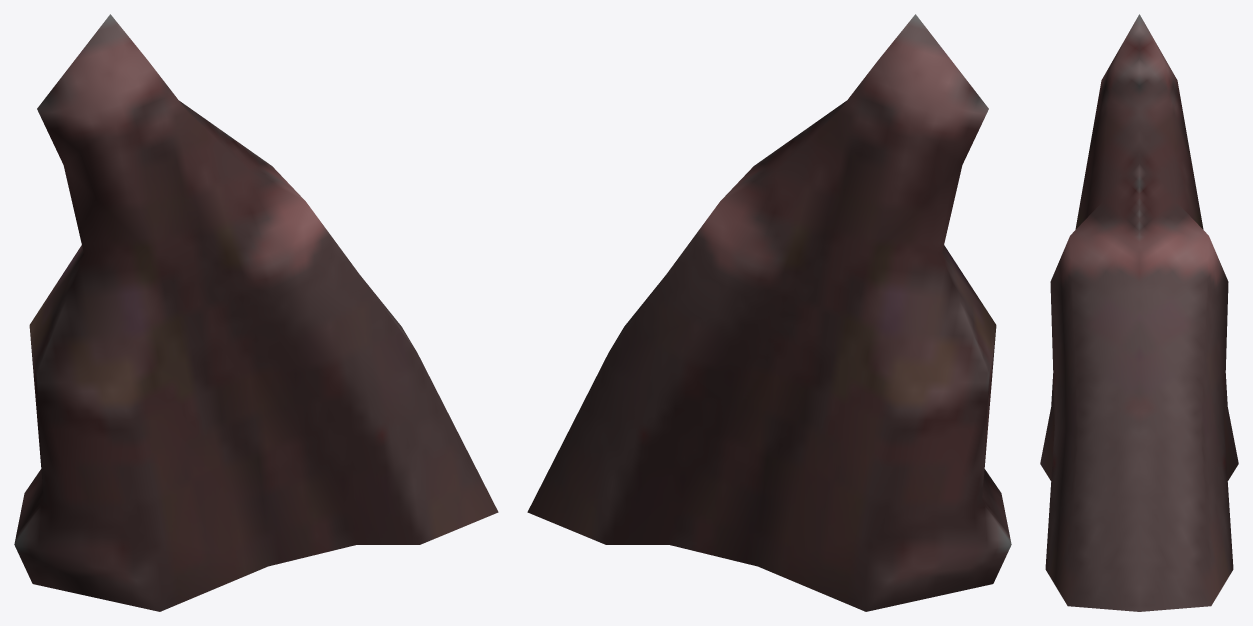
The model's file is huoshan_shitou09.fbx.
3 views of the same model, side by side, from view 1: azimuth 30°, elevation 25°; view 2: azimuth 150°, elevation 25°; view 3: azimuth 270°, elevation 25° (orthographic). The views are drawn at different scales.
Parts seen in each view (by area): view 1: huoshan_shitou09; view 2: huoshan_shitou09; view 3: huoshan_shitou09.
Boxes of the visible parts, x1,y1,x2,y2 form: huoshan_shitou09: [14, 14, 498, 611]; huoshan_shitou09: [527, 14, 1011, 611]; huoshan_shitou09: [1040, 14, 1238, 611].
Size of the model in its own units: 0.9859 by 1.14 by 0.4524.
